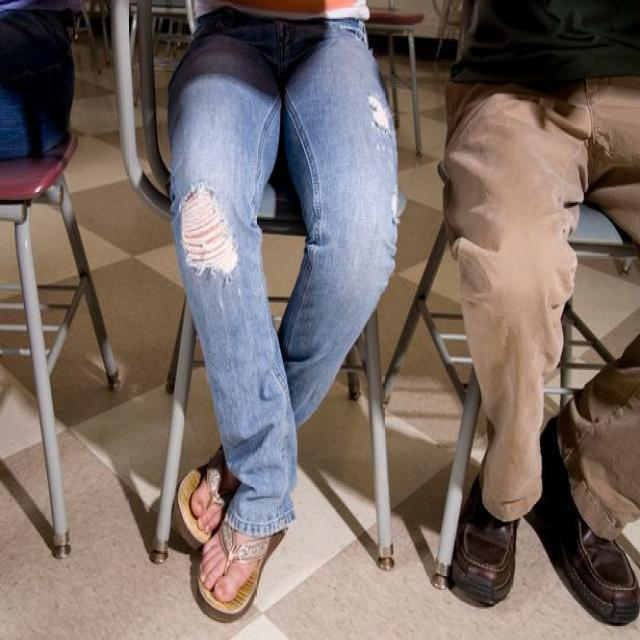No_Shoe: (196, 516, 290, 618)
